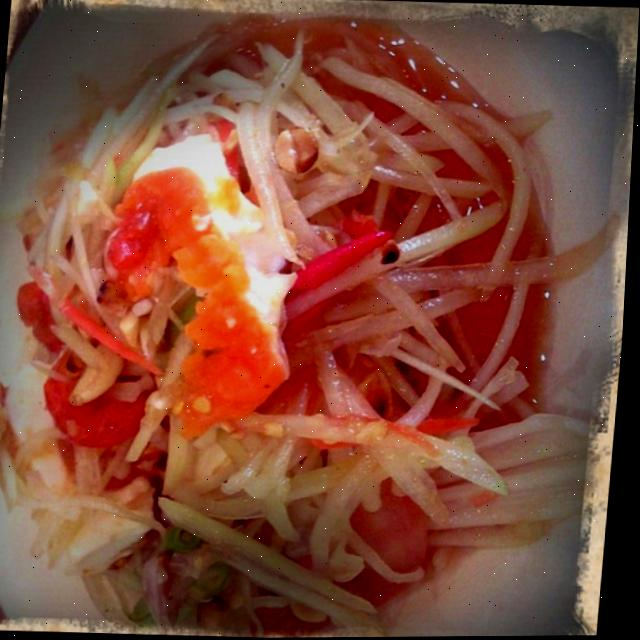蔬菜料理: (0, 15, 582, 639)
